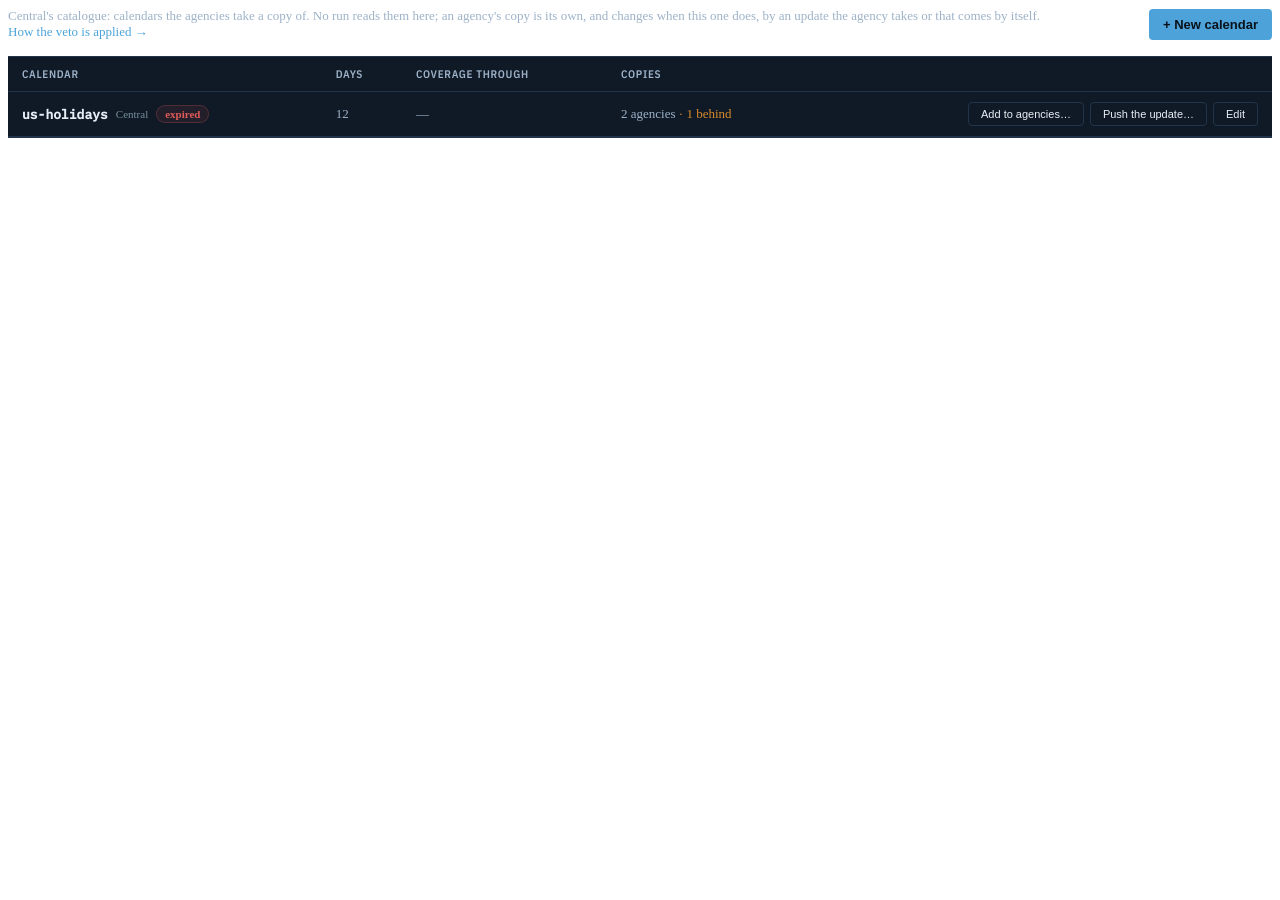
Test case: Calendars in Central: the catalogue (CA-25, CA-26, CA-28) › pushes the update to the copies behind it, and says what happened in each
Click the button "Push the update…".
click(1148, 114)  # box [1090,102,1207,126]
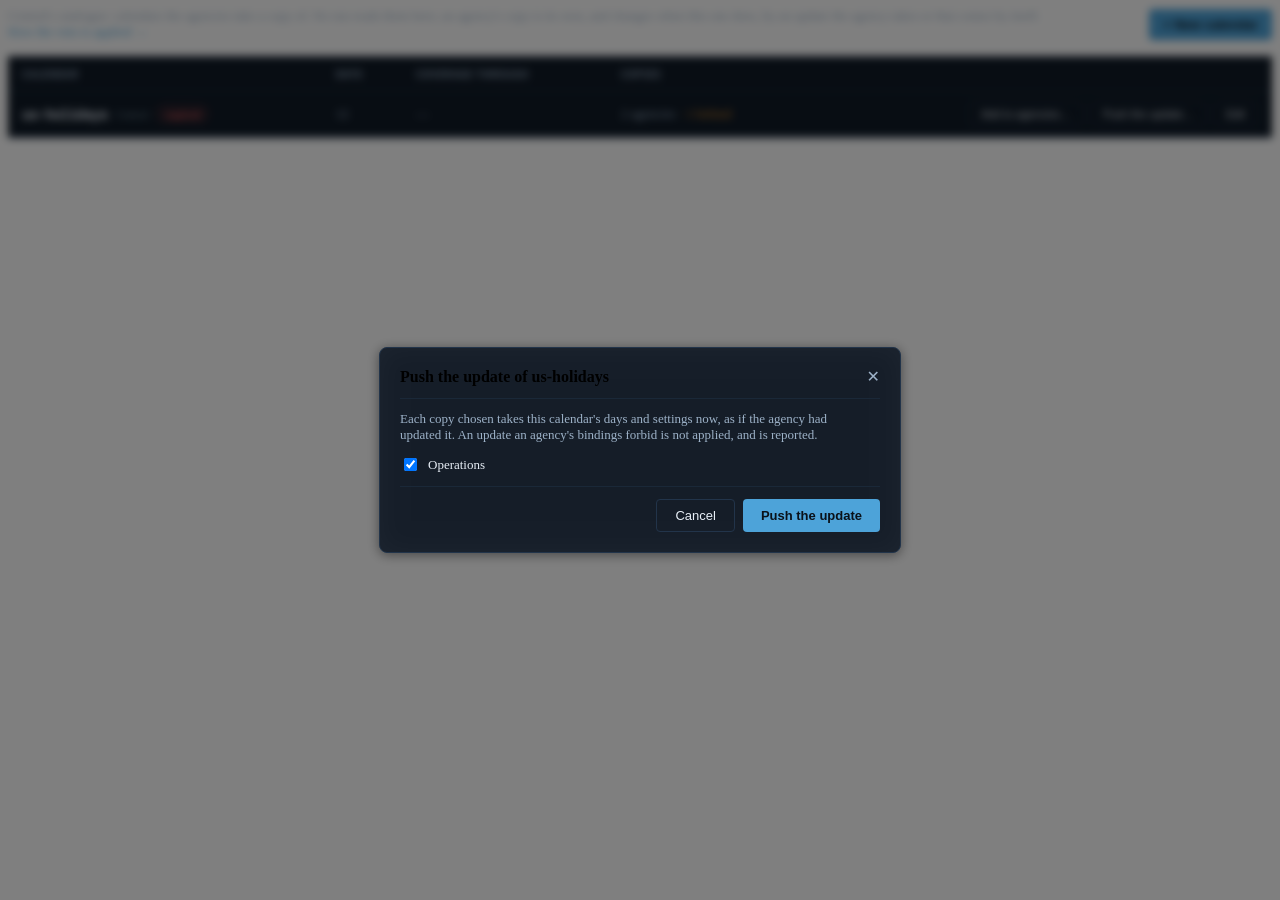
expect the checkbox labelled "Operations" is checked: met, box [404,458,417,471]
Click the button "Push the update".
click(811, 516)  # box [743,499,880,532]
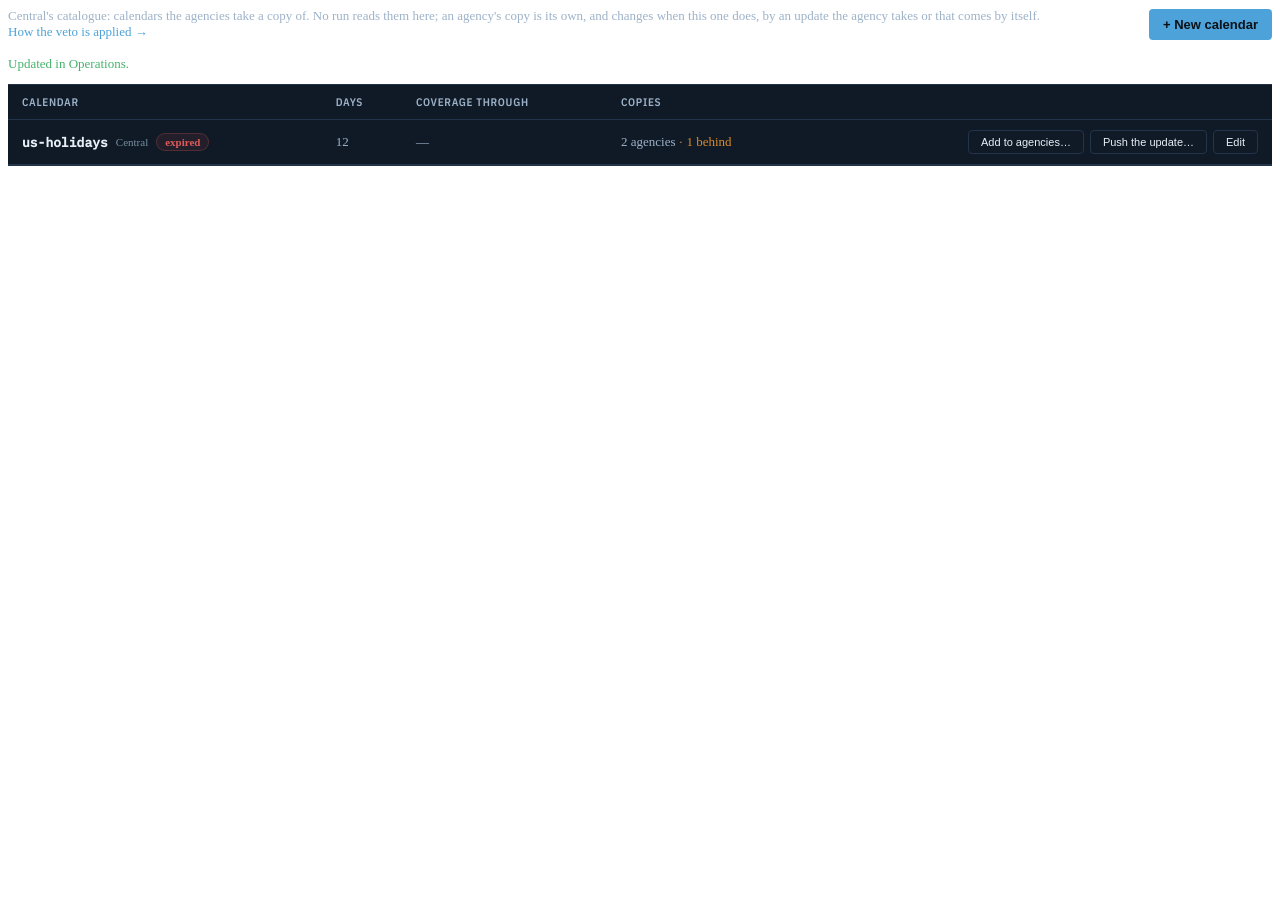
expect the text "Updated in Operations." is shown: met, box [8,56,129,71]
